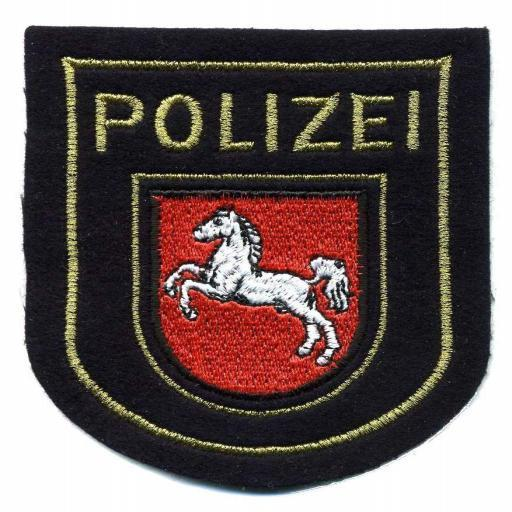horse: (160, 200, 351, 366)
